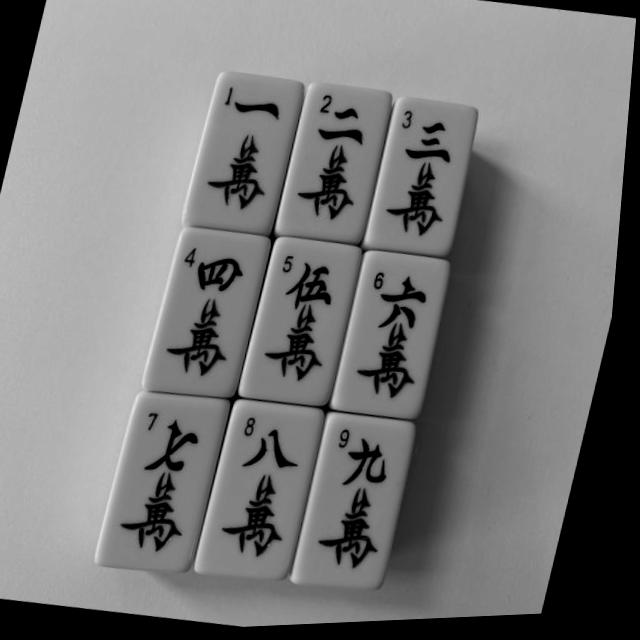sc1: (184, 74, 309, 239)
sc2: (277, 85, 396, 251)
sc3: (367, 100, 482, 264)
sc4: (146, 229, 277, 401)
sc5: (243, 238, 368, 411)
sc6: (336, 254, 457, 425)
sc7: (102, 392, 240, 576)
sc8: (202, 401, 335, 584)
sc9: (297, 414, 426, 596)
